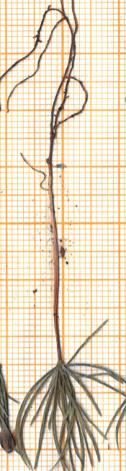flower: (15, 311, 125, 471)
root: (2, 5, 94, 152)
stem: (42, 157, 70, 358)
